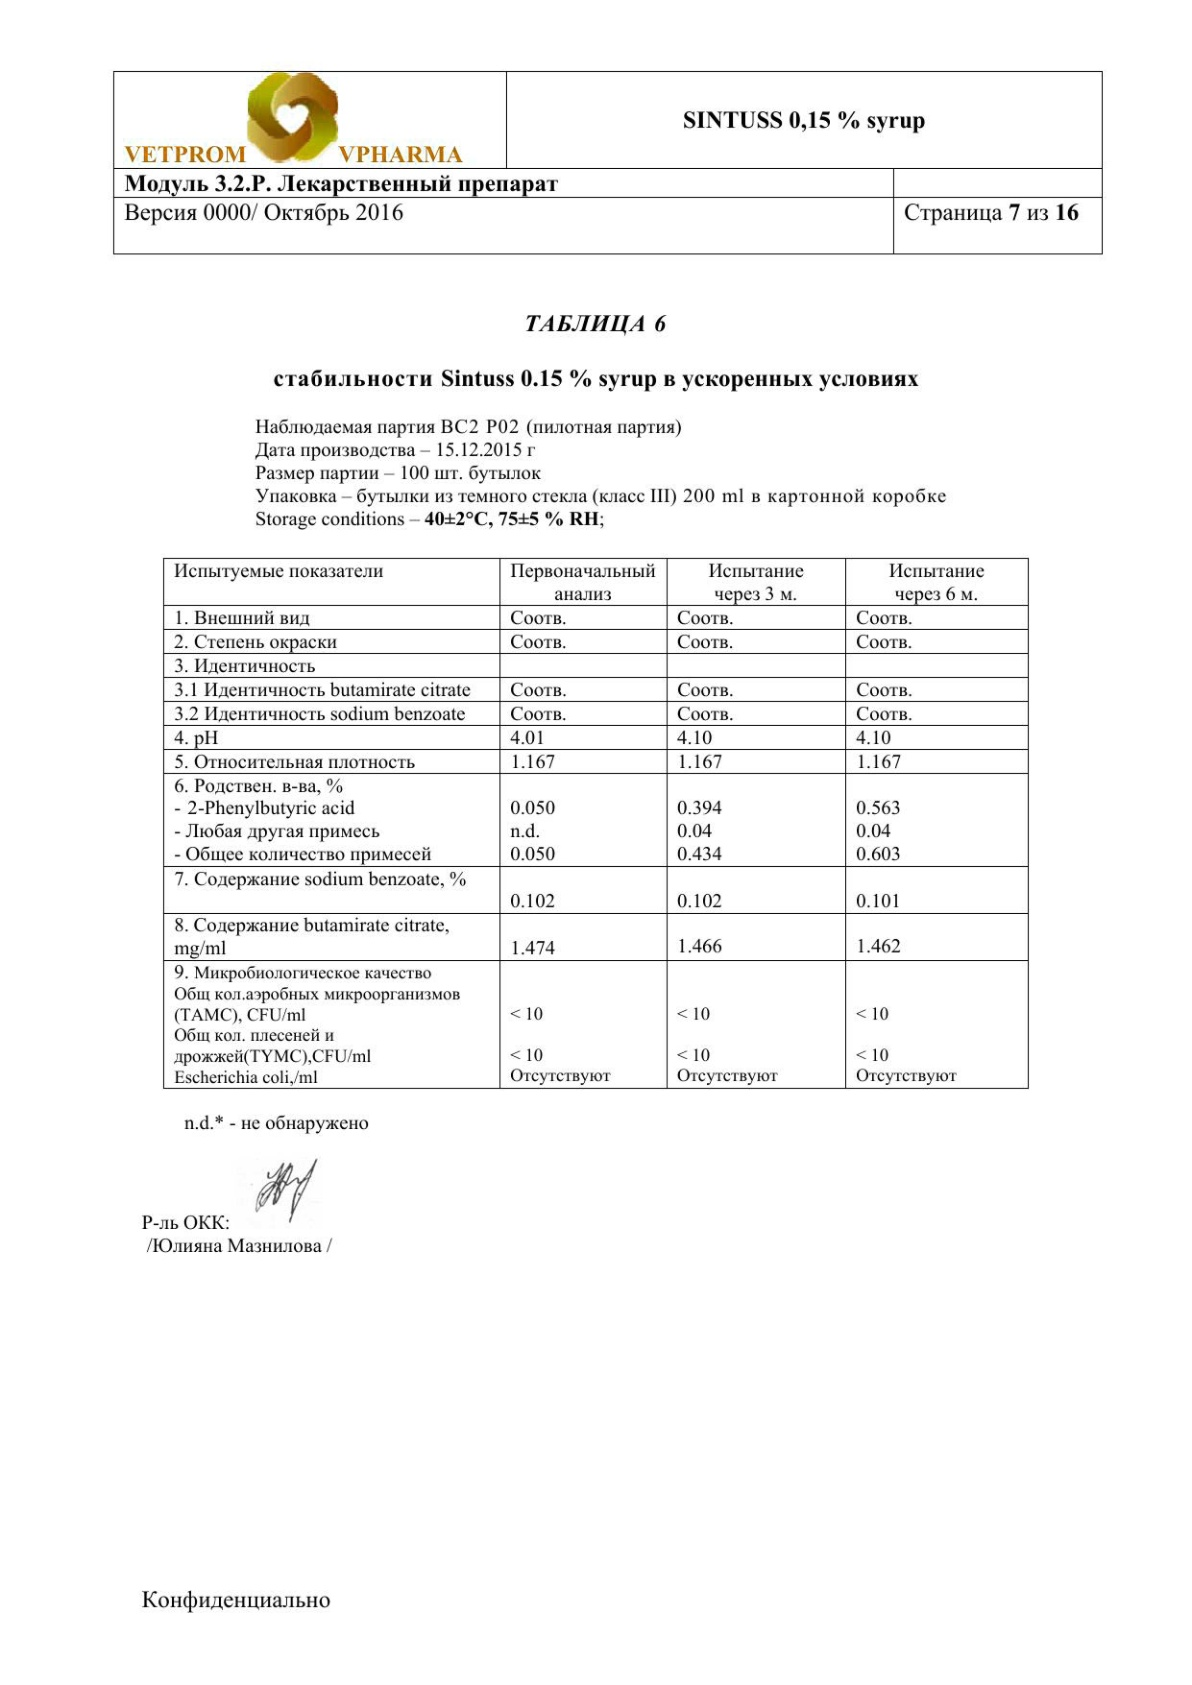full_lined: (163, 557, 1029, 1089)
merged_cells: (111, 70, 1104, 255)
